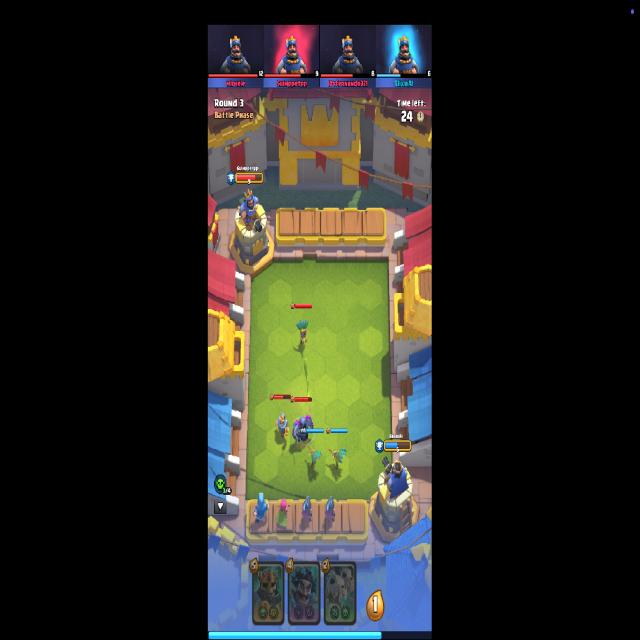archer: (276, 498, 291, 526)
card_e_wiz: (288, 562, 321, 625)
card_skeleton_dragon: (324, 561, 356, 625)
card_skeleton_king: (253, 561, 285, 626)
dart_goblin: (328, 447, 346, 470), (296, 319, 310, 348), (308, 443, 322, 470)
knight: (275, 412, 290, 440)
musketeer: (325, 496, 336, 523), (302, 496, 312, 523)
pekka: (292, 414, 314, 444)
wizard: (252, 492, 270, 526)
